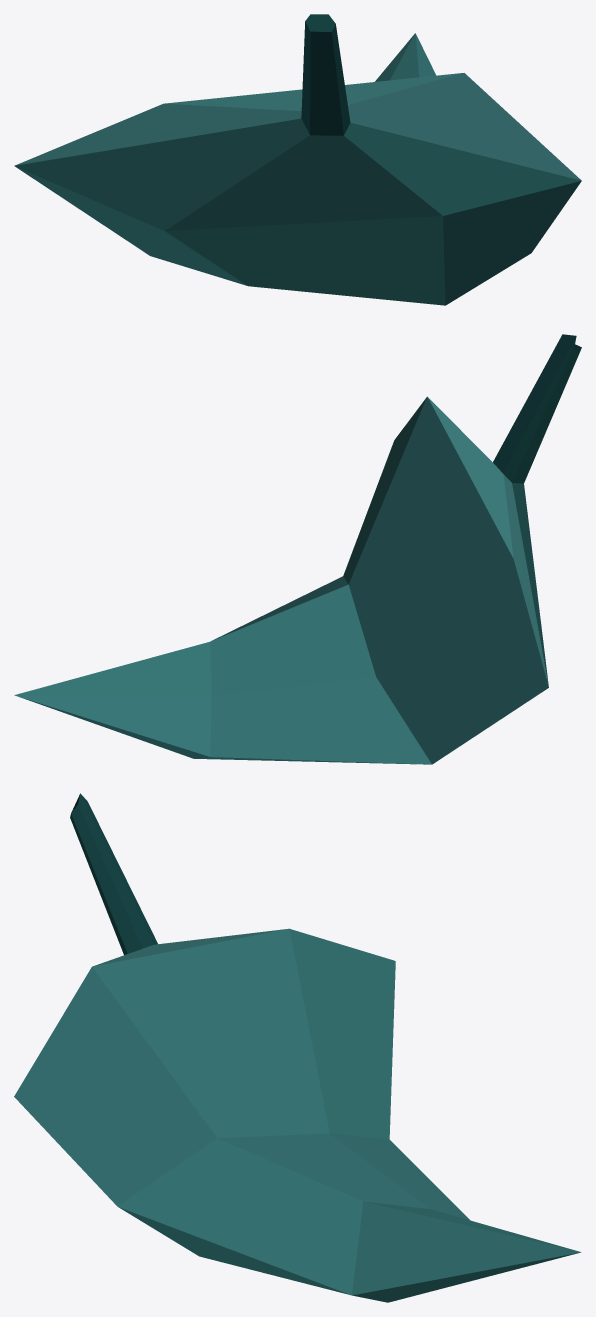
File: Leaf1_Alt1.fbx
The picture shows the model from 3 angles, top to bottom: view 1: azimuth 30°, elevation 25°; view 2: azimuth 150°, elevation 25°; view 3: azimuth 270°, elevation 25°; orthographic projection. The views are drawn at different scales.
Visible parts, largest first — view 1: Leaf1_Alt1; view 2: Leaf1_Alt1; view 3: Leaf1_Alt1.
Boxes of the visible parts, x1,y1,x2,y2 form: Leaf1_Alt1: [14, 14, 581, 305]; Leaf1_Alt1: [14, 334, 581, 764]; Leaf1_Alt1: [14, 793, 581, 1302].
Bounding box in the file's own units: 0.268 × 0.1977 × 0.2746.
